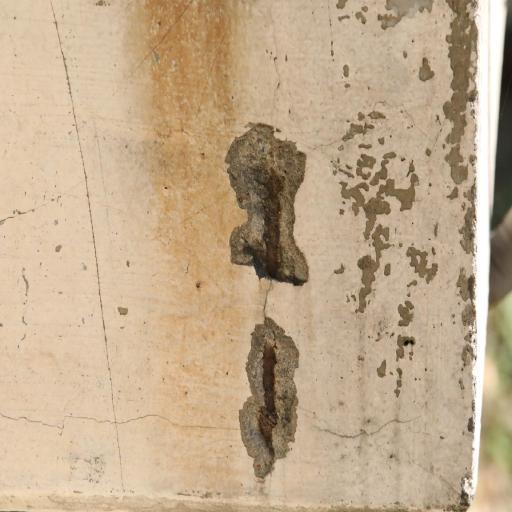exposed_rebar: (258, 343, 278, 453), (264, 169, 281, 279)
spalling: (225, 124, 308, 284), (239, 316, 299, 478)
